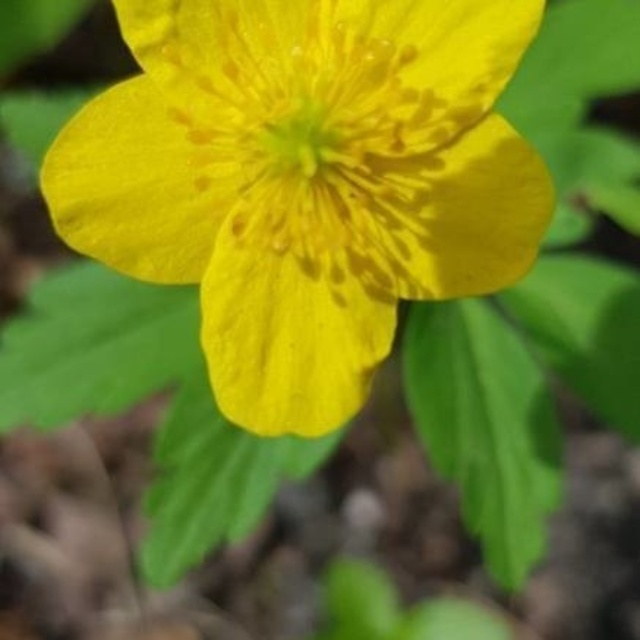obstacle: (32, 69, 570, 586)
